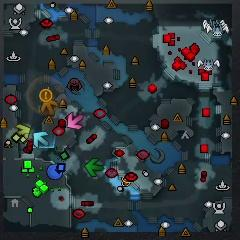Other: (39, 89, 53, 103)
p1: (47, 164, 63, 179)
x1: (67, 112, 83, 129)
x2: (14, 124, 30, 138)
x3: (33, 131, 48, 147)
x4: (85, 158, 103, 176)
x5: (41, 100, 58, 115)
